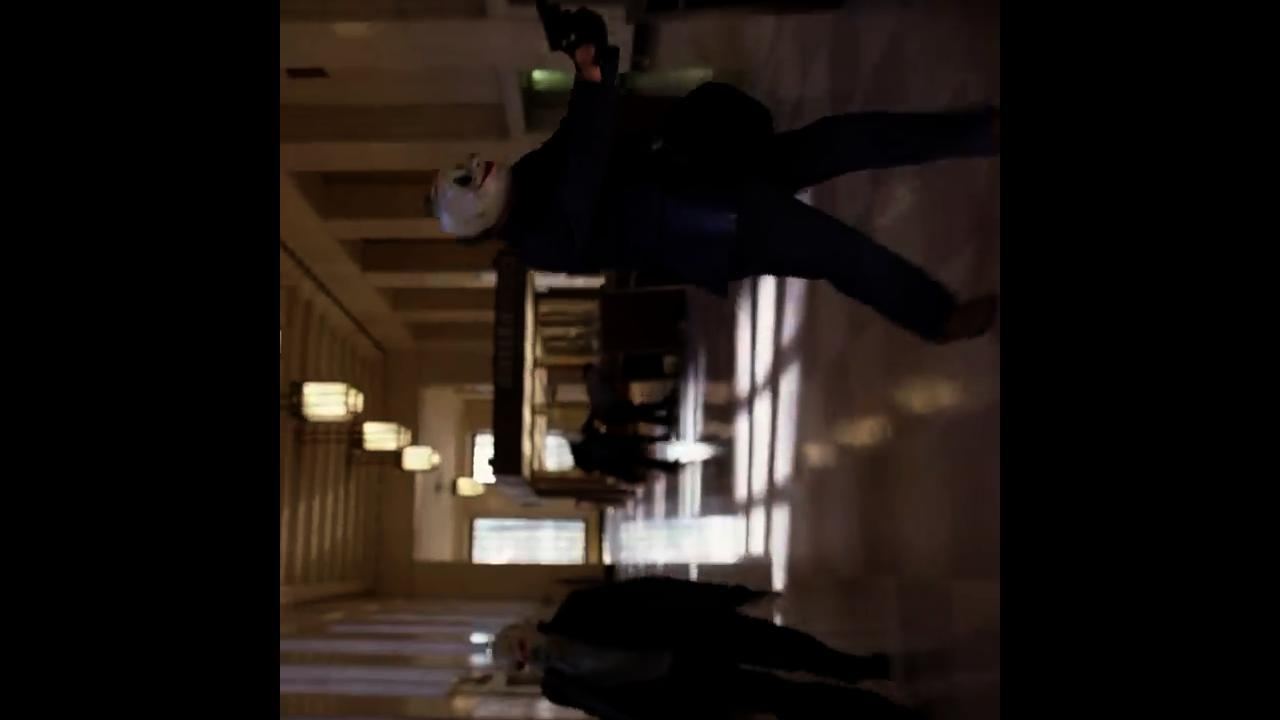gun: (530, 0, 586, 53), (734, 581, 782, 610)
